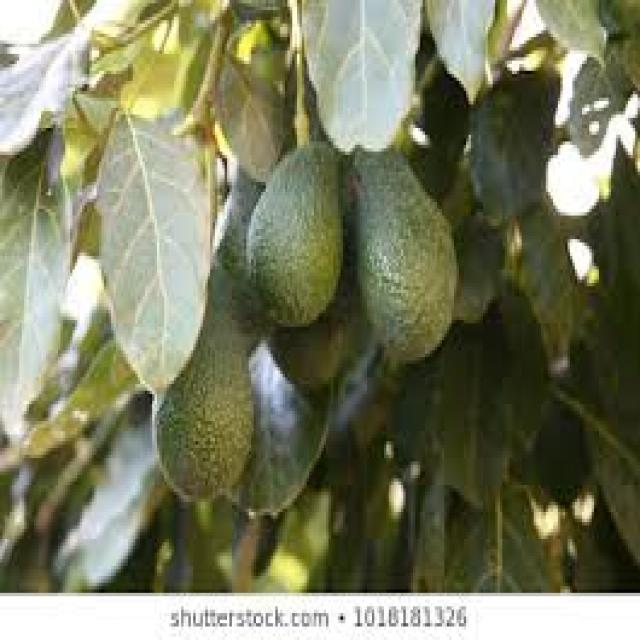Avocado: (348, 120, 465, 374), (151, 253, 253, 503), (247, 124, 350, 340)
